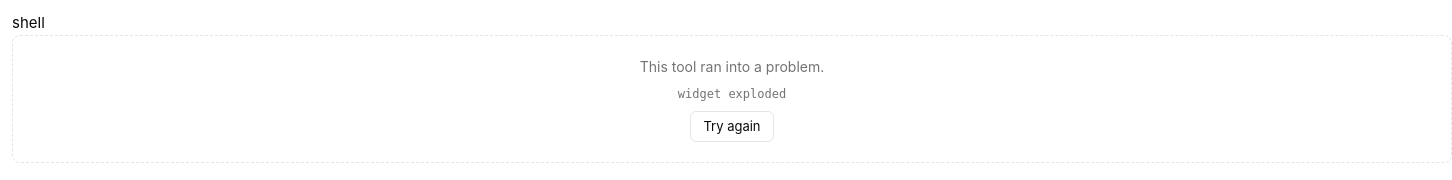
Test: ToolView › contains a crashing widget and recovers on request
Check: the text "shell" is shown, box [12, 13, 45, 32]
Check: the text "This tool ran into a problem." is shown, box [640, 56, 824, 76]
Click the button "Try again".
click(732, 126)  # box [690, 110, 774, 142]
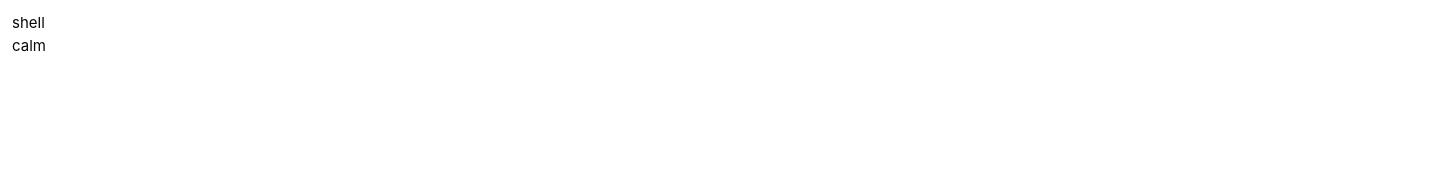
Check: the text "calm" is shown, box [12, 36, 46, 54]
